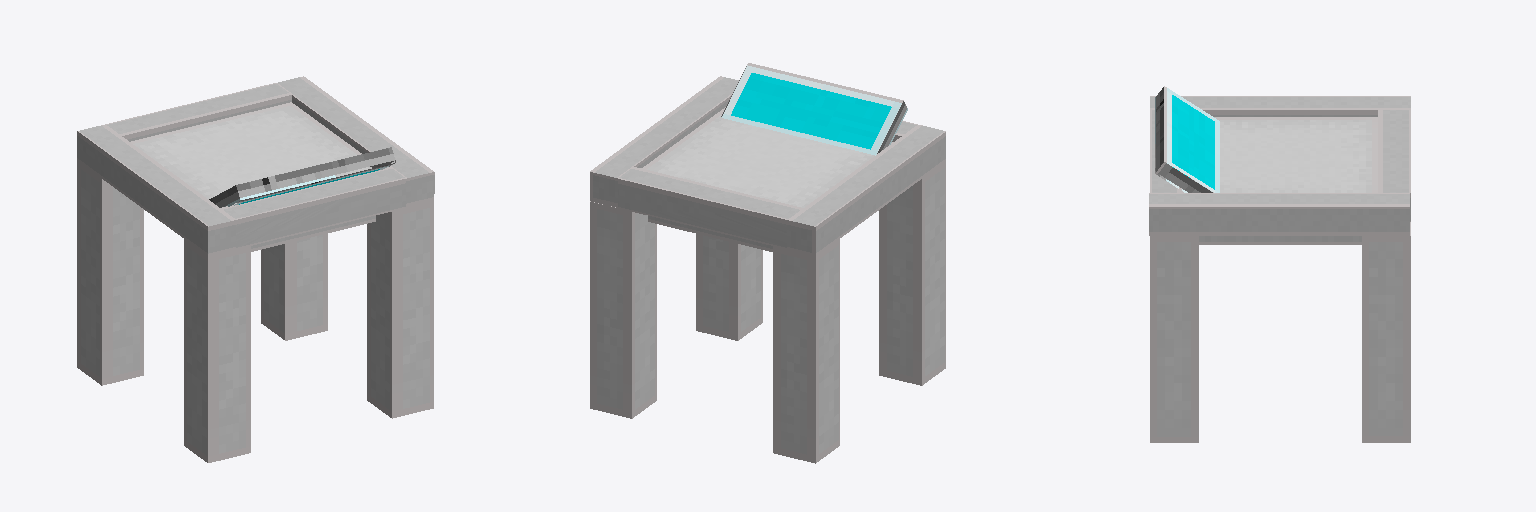
3 views of the same model, side by side, from view 1: azimuth 30°, elevation 25°; view 2: azimuth 150°, elevation 25°; view 3: azimuth 270°, elevation 25° (orthographic).
Visible parts, largest first — view 1: ModelSolderingTable1:Mesh; view 2: ModelSolderingTable1:Mesh; view 3: ModelSolderingTable1:Mesh.
Part boxes in pixels (bbox=[...]): ModelSolderingTable1:Mesh: bbox=[77, 76, 434, 462]; ModelSolderingTable1:Mesh: bbox=[590, 63, 945, 463]; ModelSolderingTable1:Mesh: bbox=[1149, 86, 1410, 442].
Bounding box in the file's own units: 0.9999 × 1.12 × 1.
1 materials, 1 textured.